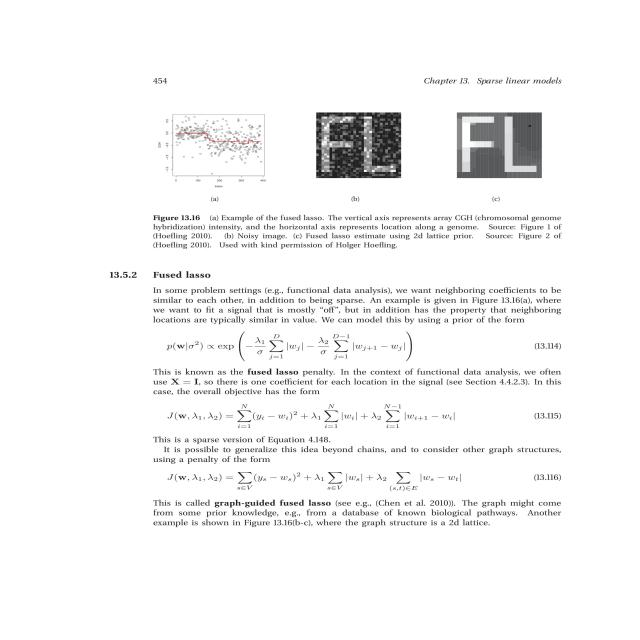diagram: (74, 92, 602, 258)
